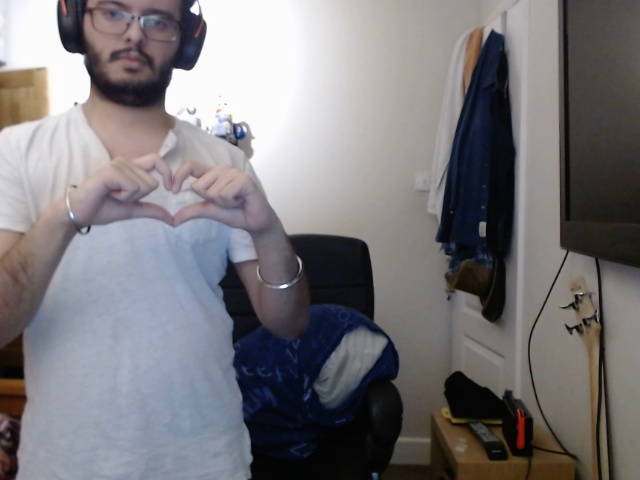Heart: (73, 152, 273, 237)
